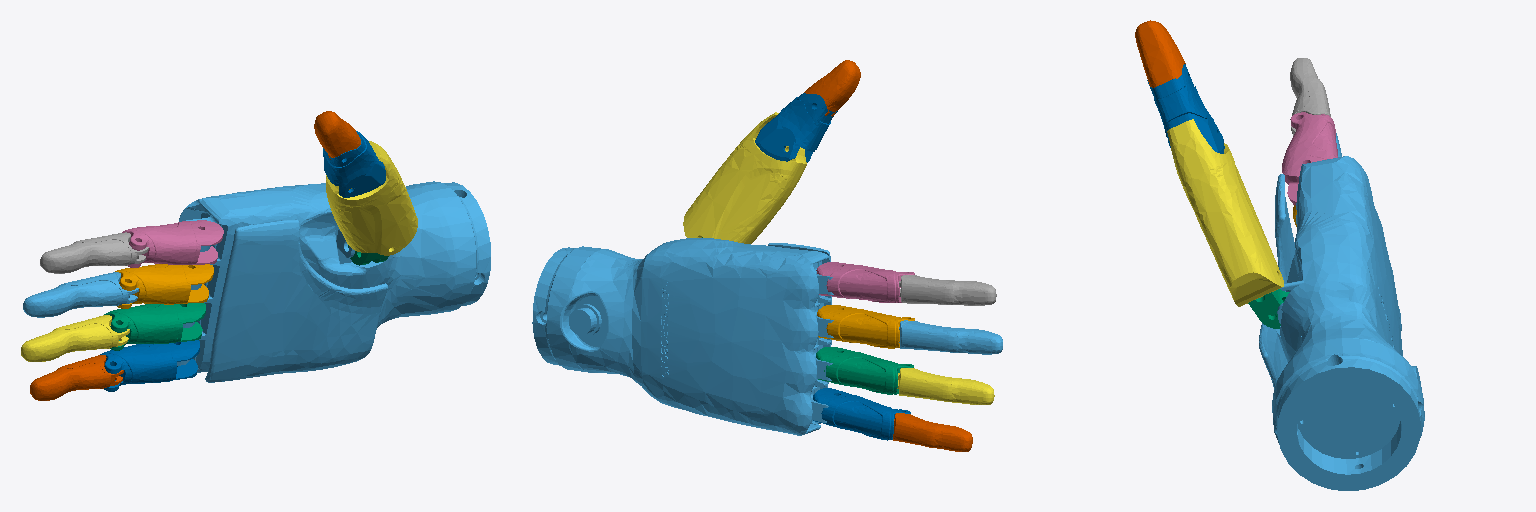
robot.urdf — inspire_hand_right:
<robot name="inspire_hand_right">
  <link name="base" />
  <joint name="base_joint" type="fixed">
    <parent link="base" />
    <child link="hand_base_link" />
    <origin xyz="0.06 0 -0.03" rpy="0.09841 -2.94159 -1.57159" />
  </joint>
  <link name="hand_base_link">
    <parent link="base" />
    <inertial>
      <origin xyz="-0.0025264 -0.066047 0.0019598" rpy="0 0 0" />
      <mass value="0.14143" />
      <inertia ixx="0.00012281" ixy="2.1711E-06" ixz="1.7709E-06" iyy="8.3832E-05" iyz="-1.6551E-06" izz="7.6663E-05" />
    </inertial>
    <visual>
      <origin xyz="0 0 0" rpy="0 0 0" />
      <geometry>
        <mesh filename="meshes/visual/right_base_link.obj" />
      </geometry>
    </visual>
    <collision>
      <origin xyz="0 -0.0136 0" rpy="1.57079 0 0" />
      <geometry>
        <cylinder length="0.0278" radius="0.028" />
      </geometry>
    </collision>
    <collision>
      <origin xyz="-0.0032 -0.038 0" rpy="0 0 0" />
      <geometry>
        <box size="0.0391 0.0202 0.0574" />
      </geometry>
    </collision>
    <collision>
      <origin xyz="-0.0032 -0.0682 0" rpy="0 0 0" />
      <geometry>
        <box size="0.0391 0.04 0.0814" />
      </geometry>
    </collision>
    <collision>
      <origin xyz="0 -0.1081 0" rpy="0 0 0" />
      <geometry>
        <box size="0.0322 0.04 0.0814" />
      </geometry>
    </collision>
    <collision>
      <origin xyz="-0.0016 -0.1340 0.0309" rpy="0 0 0" />
      <geometry>
        <box size="0.0125 0.0111 0.0089" />
      </geometry>
    </collision>
    <collision>
      <origin xyz="-0.0016 -0.1340 0.0118" rpy="0 0 0" />
      <geometry>
        <box size="0.0125 0.0111 0.0089" />
      </geometry>
    </collision>
    <collision>
      <origin xyz="-0.0016 -0.1340 -0.0070" rpy="0 0 0" />
      <geometry>
        <box size="0.0125 0.0111 0.0089" />
      </geometry>
    </collision>
    <collision>
      <origin xyz="-0.0016 -0.1340 -0.0262" rpy="0 0 0" />
      <geometry>
        <box size="0.0125 0.0111 0.0089" />
      </geometry>
    </collision>
  </link>
  <link name="thumb_proximal_base">
    <inertial>
      <origin xyz="-0.0048064 0.0009382 -0.00757" rpy="0 0 0" />
      <mass value="0.0018869" />
      <inertia ixx="5.816E-08" ixy="1.4539E-08" ixz="4.491E-09" iyy="7.9161E-08" iyz="-1.8727E-09" izz="6.7433E-08" />
    </inertial>
    <visual>
      <origin xyz="0 0 0" rpy="0 0 0" />
      <geometry>
        <mesh filename="meshes/visual/right_thumb_proximal_base.obj" />
      </geometry>
    </visual>
    <collision>
      <origin xyz="0 0 0" rpy="0 0 0" />
      <geometry>
        <mesh filename="meshes/collision/right_thumb_proximal_base.obj" />
      </geometry>
    </collision>
  </link>
  <joint name="thumb_proximal_yaw_joint" type="revolute">
    <origin xyz="-0.01696 -0.0691 -0.02045" rpy="1.5708 -1.5708 0" />
    <parent link="hand_base_link" />
    <child link="thumb_proximal_base" />
    <axis xyz="0 0 -1" />
    <limit lower="0.0" upper="1.308" effort="1" velocity="0.5" />
  </joint>
  <link name="thumb_proximal">
    <inertial>
      <origin xyz="0.021932 0.012785 -0.0080386" rpy="0 0 0" />
      <mass value="0.0066075" />
      <inertia ixx="1.5686E-06" ixy="-7.8296E-07" ixz="8.9143E-10" iyy="1.7353E-06" iyz="-1.0191E-09" izz="2.786E-06" />
    </inertial>
    <visual>
      <origin xyz="0 0 0" rpy="0 0 0" />
      <geometry>
        <mesh filename="meshes/visual/right_thumb_proximal.obj" />
      </geometry>
    </visual>
    <collision>
      <origin xyz="0 0 0" rpy="0 0 0" />
      <geometry>
        <mesh filename="meshes/collision/right_thumb_proximal.obj" />
      </geometry>
    </collision>
  </link>
  <joint name="thumb_proximal_pitch_joint" type="revolute">
    <origin xyz="-0.0088099 0.010892 -0.00925" rpy="1.5708 0 2.8587" />
    <parent link="thumb_proximal_base" />
    <child link="thumb_proximal" />
    <axis xyz="0 0 1" />
    <limit lower="0" upper="0.6" effort="1" velocity="0.5" />
  </joint>
  <link name="thumb_intermediate">
    <inertial>
      <origin xyz="0.0095544 -0.0016282 -0.0071997" rpy="0 0 0" />
      <mass value="0.0037847" />
      <inertia ixx="3.6981E-07" ixy="-9.8581E-08" ixz="-4.7469E-12" iyy="3.2394E-07" iyz="1.0939E-12" izz="4.6531E-07" />
    </inertial>
    <visual>
      <origin xyz="0 0 0" rpy="0 0 0" />
      <geometry>
        <mesh filename="meshes/visual/right_thumb_intermediate.obj" />
      </geometry>
    </visual>
    <collision>
      <origin xyz="0 0 0" rpy="0 0 0" />
      <geometry>
        <mesh filename="meshes/collision/right_thumb_intermediate.obj" />
      </geometry>
    </collision>
  </link>
  <joint name="thumb_intermediate_joint" type="revolute">
    <origin xyz="0.04407 0.034553 -0.0008" rpy="0 0 0" />
    <parent link="thumb_proximal" />
    <child link="thumb_intermediate" />
    <axis xyz="0 0 1" />
    <limit lower="0" upper="0.8" effort="1" velocity="0.5" />
    <mimic joint="thumb_proximal_pitch_joint" multiplier="1.334" offset="0" />
  </joint>
  <link name="thumb_distal">
    <inertial>
      <origin xyz="0.0092888 0.0049529 -0.0060033" rpy="0 0 0" />
      <mass value="0.0033441" />
      <inertia ixx="1.3632E-07" ixy="-5.6788E-08" ixz="-9.2764E-11" iyy="1.4052E-07" iyz="-1.2283E-10" izz="2.0026E-07" />
    </inertial>
    <visual>
      <origin xyz="0 0 0" rpy="0 0 0" />
      <geometry>
        <mesh filename="meshes/visual/right_thumb_distal.obj" />
      </geometry>
    </visual>
    <collision>
      <origin xyz="0 0 0" rpy="0 0 0" />
      <geometry>
        <mesh filename="meshes/collision/right_thumb_distal.obj" />
      </geometry>
    </collision>
  </link>
  <joint name="thumb_distal_joint" type="revolute">
    <origin xyz="0.020248 0.010156 -0.0012" rpy="0 0 0" />
    <parent link="thumb_intermediate" />
    <child link="thumb_distal" />
    <axis xyz="0 0 1" />
    <limit lower="0" upper="0.4" effort="1" velocity="0.5" />
    <mimic joint="thumb_proximal_pitch_joint" multiplier="0.667" offset="0" />
  </joint>
  <link name="index_proximal">
    <inertial>
      <origin xyz="0.0012259 0.011942 -0.0060001" rpy="0 0 0" />
      <mass value="0.0042403" />
      <inertia ixx="6.6232E-07" ixy="-1.5775E-08" ixz="1.8515E-12" iyy="2.1146E-07" iyz="-5.0828E-12" izz="6.9398E-07" />
    </inertial>
    <visual>
      <origin xyz="0 0 0" rpy="0 0 0" />
      <geometry>
        <mesh filename="meshes/visual/right_index_proximal.obj" />
      </geometry>
    </visual>
    <collision>
      <origin xyz="0 0 0" rpy="0 0 0" />
      <geometry>
        <mesh filename="meshes/collision/right_index_proximal.obj" />
      </geometry>
    </collision>
  </link>
  <joint name="index_proximal_joint" type="revolute">
    <origin xyz="0.00028533 -0.13653 -0.032268" rpy="-3.1067 0 0" />
    <parent link="hand_base_link" />
    <child link="index_proximal" />
    <axis xyz="0 0 1" />
    <limit lower="0" upper="1.47" effort="1" velocity="0.5" />
  </joint>
  <link name="index_intermediate">
    <inertial>
      <origin xyz="0.0019697 0.019589 -0.005" rpy="0 0 0" />
      <mass value="0.0045683" />
      <inertia ixx="7.6111E-07" ixy="8.7637E-08" ixz="-3.7751E-13" iyy="9.6076E-08" iyz="9.9444E-13" izz="7.8179E-07" />
    </inertial>
    <visual>
      <origin xyz="0 0 0" rpy="0 0 0" />
      <geometry>
        <mesh filename="meshes/visual/right_index_intermediate.obj" />
      </geometry>
    </visual>
    <collision>
      <origin xyz="0 0 0" rpy="0 0 0" />
      <geometry>
        <mesh filename="meshes/collision/right_index_intermediate.obj" />
      </geometry>
    </collision>
  </link>
  <joint name="index_intermediate_joint" type="revolute">
    <origin xyz="-0.0026138 0.032026 -0.001" rpy="0 0 0" />
    <parent link="index_proximal" />
    <child link="index_intermediate" />
    <axis xyz="0 0 1" />
    <limit lower="-0.04545" upper="1.56" effort="1" velocity="0.5" />
    <mimic joint="index_proximal_joint" multiplier="1.06399" offset="-0.04545" />
  </joint>
  <link name="middle_proximal">
    <inertial>
      <origin xyz="0.001297 0.011934 -0.0060001" rpy="0 0 0" />
      <mass value="0.0042403" />
      <inertia ixx="6.6211E-07" ixy="-1.8461E-08" ixz="1.8002E-12" iyy="2.1167E-07" iyz="-6.6808E-12" izz="6.9397E-07" />
    </inertial>
    <visual>
      <origin xyz="0 0 0" rpy="0 0 0" />
      <geometry>
        <mesh filename="meshes/visual/right_index_proximal.obj" />
      </geometry>
    </visual>
    <collision>
      <origin xyz="0 0 0" rpy="0 0 0" />
      <geometry>
        <mesh filename="meshes/collision/right_index_proximal.obj" />
      </geometry>
    </collision>
  </link>
  <joint name="middle_proximal_joint" type="revolute">
    <origin xyz="0.00028533 -0.1371 -0.01295" rpy="-3.1416 0 0" />
    <parent link="hand_base_link" />
    <child link="middle_proximal" />
    <axis xyz="0 0 1" />
    <limit lower="0" upper="1.47" effort="1" velocity="0.5" />
  </joint>
  <link name="middle_intermediate">
    <inertial>
      <origin xyz="0.001921 0.020796 -0.005" rpy="0 0 0" />
      <mass value="0.0050396" />
      <inertia ixx="9.5822E-07" ixy="1.1425E-07" ixz="-2.4791E-12" iyy="1.0646E-07" iyz="5.9173E-12" izz="9.8384E-07" />
    </inertial>
    <visual>
      <origin xyz="0 0 0" rpy="0 0 0" />
      <geometry>
        <mesh filename="meshes/visual/right_middle_intermediate.obj" />
      </geometry>
    </visual>
    <collision>
      <origin xyz="0 0 0" rpy="0 0 0" />
      <geometry>
        <mesh filename="meshes/collision/right_middle_intermediate.obj" />
      </geometry>
    </collision>
  </link>
  <joint name="middle_intermediate_joint" type="revolute">
    <origin xyz="-0.0024229 0.032041 -0.001" rpy="0 0 0" />
    <parent link="middle_proximal" />
    <child link="middle_intermediate" />
    <axis xyz="0 0 1" />
    <limit lower="-0.04545" upper="1.56" effort="1" velocity="0.5" />
    <mimic joint="middle_proximal_joint" multiplier="1.06399" offset="-0.04545" />
  </joint>
  <link name="ring_proximal">
    <inertial>
      <origin xyz="0.001297 0.011934 -0.0060002" rpy="0 0 0" />
      <mass value="0.0042403" />
      <inertia ixx="6.6211E-07" ixy="-1.8461E-08" ixz="1.5793E-12" iyy="2.1167E-07" iyz="-6.6868E-12" izz="6.9397E-07" />
    </inertial>
    <visual>
      <origin xyz="0 0 0" rpy="0 0 0" />
      <geometry>
        <mesh filename="meshes/visual/right_index_proximal.obj" />
      </geometry>
    </visual>
    <collision>
      <origin xyz="0 0 0" rpy="0 0 0" />
      <geometry>
        <mesh filename="meshes/collision/right_index_proximal.obj" />
      </geometry>
    </collision>
  </link>
  <joint name="ring_proximal_joint" type="revolute">
    <origin xyz="0.00028533 -0.13691 0.0062872" rpy="3.0892 0 0" />
    <parent link="hand_base_link" />
    <child link="ring_proximal" />
    <axis xyz="0 0 1" />
    <limit lower="0" upper="1.47" effort="1" velocity="0.5" />
  </joint>
  <link name="ring_intermediate">
    <inertial>
      <origin xyz="0.0021753 0.019567 -0.005" rpy="0 0 0" />
      <mass value="0.0045683" />
      <inertia ixx="7.6286E-07" ixy="8.0635E-08" ixz="-6.1562E-13" iyy="9.431E-08" iyz="5.8619E-13" izz="7.8177E-07" />
    </inertial>
    <visual>
      <origin xyz="0 0 0" rpy="0 0 0" />
      <geometry>
        <mesh filename="meshes/visual/right_index_intermediate.obj" />
      </geometry>
    </visual>
    <collision>
      <origin xyz="0 0 0" rpy="0 0 0" />
      <geometry>
        <mesh filename="meshes/collision/right_index_intermediate.obj" />
      </geometry>
    </collision>
  </link>
  <joint name="ring_intermediate_joint" type="revolute">
    <origin xyz="-0.0024229 0.032041 -0.001" rpy="0 0 0" />
    <parent link="ring_proximal" />
    <child link="ring_intermediate" />
    <axis xyz="0 0 1" />
    <limit lower="-0.04545" upper="1.56" effort="1" velocity="0.5" />
    <mimic joint="ring_proximal_joint" multiplier="1.06399" offset="-0.04545" />
  </joint>
  <link name="pinky_proximal">
    <inertial>
      <origin xyz="0.001297 0.011934 -0.0060001" rpy="0 0 0" />
      <mass value="0.0042403" />
      <inertia ixx="6.6211E-07" ixy="-1.8461E-08" ixz="1.6907E-12" iyy="2.1167E-07" iyz="-6.9334E-12" izz="6.9397E-07" />
    </inertial>
    <visual>
      <origin xyz="0 0 0" rpy="0 0 0" />
      <geometry>
        <mesh filename="meshes/visual/right_index_proximal.obj" />
      </geometry>
    </visual>
    <collision>
      <origin xyz="0 0 0" rpy="0 0 0" />
      <geometry>
        <mesh filename="meshes/collision/right_index_proximal.obj" />
      </geometry>
    </collision>
  </link>
  <joint name="pinky_proximal_joint" type="revolute">
    <origin xyz="0.00028533 -0.13571 0.025488" rpy="3.0369 0 0" />
    <parent link="hand_base_link" />
    <child link="pinky_proximal" />
    <axis xyz="0 0 1" />
    <limit lower="0" upper="1.47" effort="1" velocity="0.5" />
  </joint>
  <link name="pinky_intermediate">
    <inertial>
      <origin xyz="0.0024748 0.016203 -0.0050031" rpy="0 0 0" />
      <mass value="0.0035996" />
      <inertia ixx="4.3913E-07" ixy="4.1418E-08" ixz="3.7168E-11" iyy="7.0247E-08" iyz="5.8613E-11" izz="4.4867E-07" />
    </inertial>
    <visual>
      <origin xyz="0 0 0" rpy="0 0 0" />
      <geometry>
        <mesh filename="meshes/visual/right_pinky_intermediate.obj" />
      </geometry>
    </visual>
    <collision>
      <origin xyz="0 0 0" rpy="0 0 0" />
      <geometry>
        <mesh filename="meshes/collision/right_pinky_intermediate.obj" />
      </geometry>
    </collision>
  </link>
  <joint name="pinky_intermediate_joint" type="revolute">
    <origin xyz="-0.0024229 0.032041 -0.001" rpy="0 0 0" />
    <parent link="pinky_proximal" />
    <child link="pinky_intermediate" />
    <axis xyz="0 0 1" />
    <limit lower="-0.04545" upper="1.56" effort="1" velocity="0.5" />
    <mimic joint="pinky_proximal_joint" multiplier="1.06399" offset="-0.04545" />
  </joint>

  <link name="thumb_tip" />
  <joint name="thumb_tip_joint" type="fixed">
    <origin xyz="0.0202 0.0140 -0.006" rpy="0 0 0" />
    <parent link="thumb_distal" />
    <child link="thumb_tip" />
  </joint>
  <link name="index_tip" />
  <joint name="index_tip_joint" type="fixed">
    <origin xyz="-0.0008 0.045 -0.005" rpy="0 0 0" />
    <parent link="index_intermediate" />
    <child link="index_tip" />
  </joint>
  <link name="middle_tip" />
  <joint name="middle_tip_joint" type="fixed">
    <origin xyz="-0.001 0.048 -0.005" rpy="0 0 0" />
    <parent link="middle_intermediate" />
    <child link="middle_tip" />
  </joint>
  <link name="ring_tip" />
  <joint name="ring_tip_joint" type="fixed">
    <origin xyz="-0.0008 0.045 -0.005" rpy="0 0 0" />
    <parent link="ring_intermediate" />
    <child link="ring_tip" />
  </joint>
  <link name="pinky_tip" />
  <joint name="pinky_tip_joint" type="fixed">
    <origin xyz="-0.0008 0.037 -0.005" rpy="0 0 0" />
    <parent link="pinky_intermediate" />
    <child link="pinky_tip" />
  </joint>
</robot>

--- Facts derived from the render (not from the file) ---
3 views of the same robot in one strip: view 1: azimuth 30°, elevation 25°; view 2: azimuth 150°, elevation 25°; view 3: azimuth 270°, elevation 25° (orthographic).
Model inspire_hand_right with 19 links and 18 joints (12 revolute, 6 fixed), rooted at base, posed all joints at 0.
Visible links, largest first — view 1: hand_base_link, thumb_proximal, index_proximal, pinky_proximal, ring_proximal, middle_proximal, middle_intermediate, ring_intermediate, index_intermediate, thumb_intermediate, pinky_intermediate, thumb_distal; view 2: hand_base_link, thumb_proximal, thumb_intermediate, pinky_proximal, ring_proximal, middle_proximal, index_proximal, middle_intermediate, ring_intermediate, index_intermediate, pinky_intermediate, thumb_distal; view 3: hand_base_link, thumb_proximal, index_proximal, thumb_intermediate, thumb_distal, index_intermediate, thumb_proximal_base.
Link boxes in pixels (<box>): hand_base_link: <box>177,181,490,382</box>; thumb_proximal: <box>326,141,417,255</box>; index_proximal: <box>122,220,223,267</box>; pinky_proximal: <box>100,340,199,391</box>; ring_proximal: <box>104,303,205,350</box>; middle_proximal: <box>115,264,213,308</box>; middle_intermediate: <box>23,272,138,317</box>; ring_intermediate: <box>21,315,129,361</box>; index_intermediate: <box>40,232,148,273</box>; thumb_intermediate: <box>323,131,385,197</box>; pinky_intermediate: <box>30,355,123,400</box>; thumb_distal: <box>314,111,360,159</box>; hand_base_link: <box>532,238,833,435</box>; thumb_proximal: <box>683,112,806,243</box>; thumb_intermediate: <box>755,93,837,162</box>; pinky_proximal: <box>813,388,910,440</box>; ring_proximal: <box>816,347,913,394</box>; middle_proximal: <box>817,305,914,348</box>; index_proximal: <box>816,262,914,302</box>; middle_intermediate: <box>899,320,1002,354</box>; ring_intermediate: <box>897,368,994,404</box>; index_intermediate: <box>899,275,996,305</box>; pinky_intermediate: <box>893,413,972,451</box>; thumb_distal: <box>804,60,860,116</box>; hand_base_link: <box>1259,156,1424,490</box>; thumb_proximal: <box>1167,119,1283,306</box>; index_proximal: <box>1282,112,1337,205</box>; thumb_intermediate: <box>1147,64,1224,153</box>; thumb_distal: <box>1135,20,1185,87</box>; index_intermediate: <box>1290,58,1330,135</box>; thumb_proximal_base: <box>1248,289,1289,328</box>.
Size in the robot's own frame: 0.2188 by 0.1042 by 0.1495 metres.
Meshes: 9 distinct files referenced, 13 mesh visuals loaded (9 OBJ).
